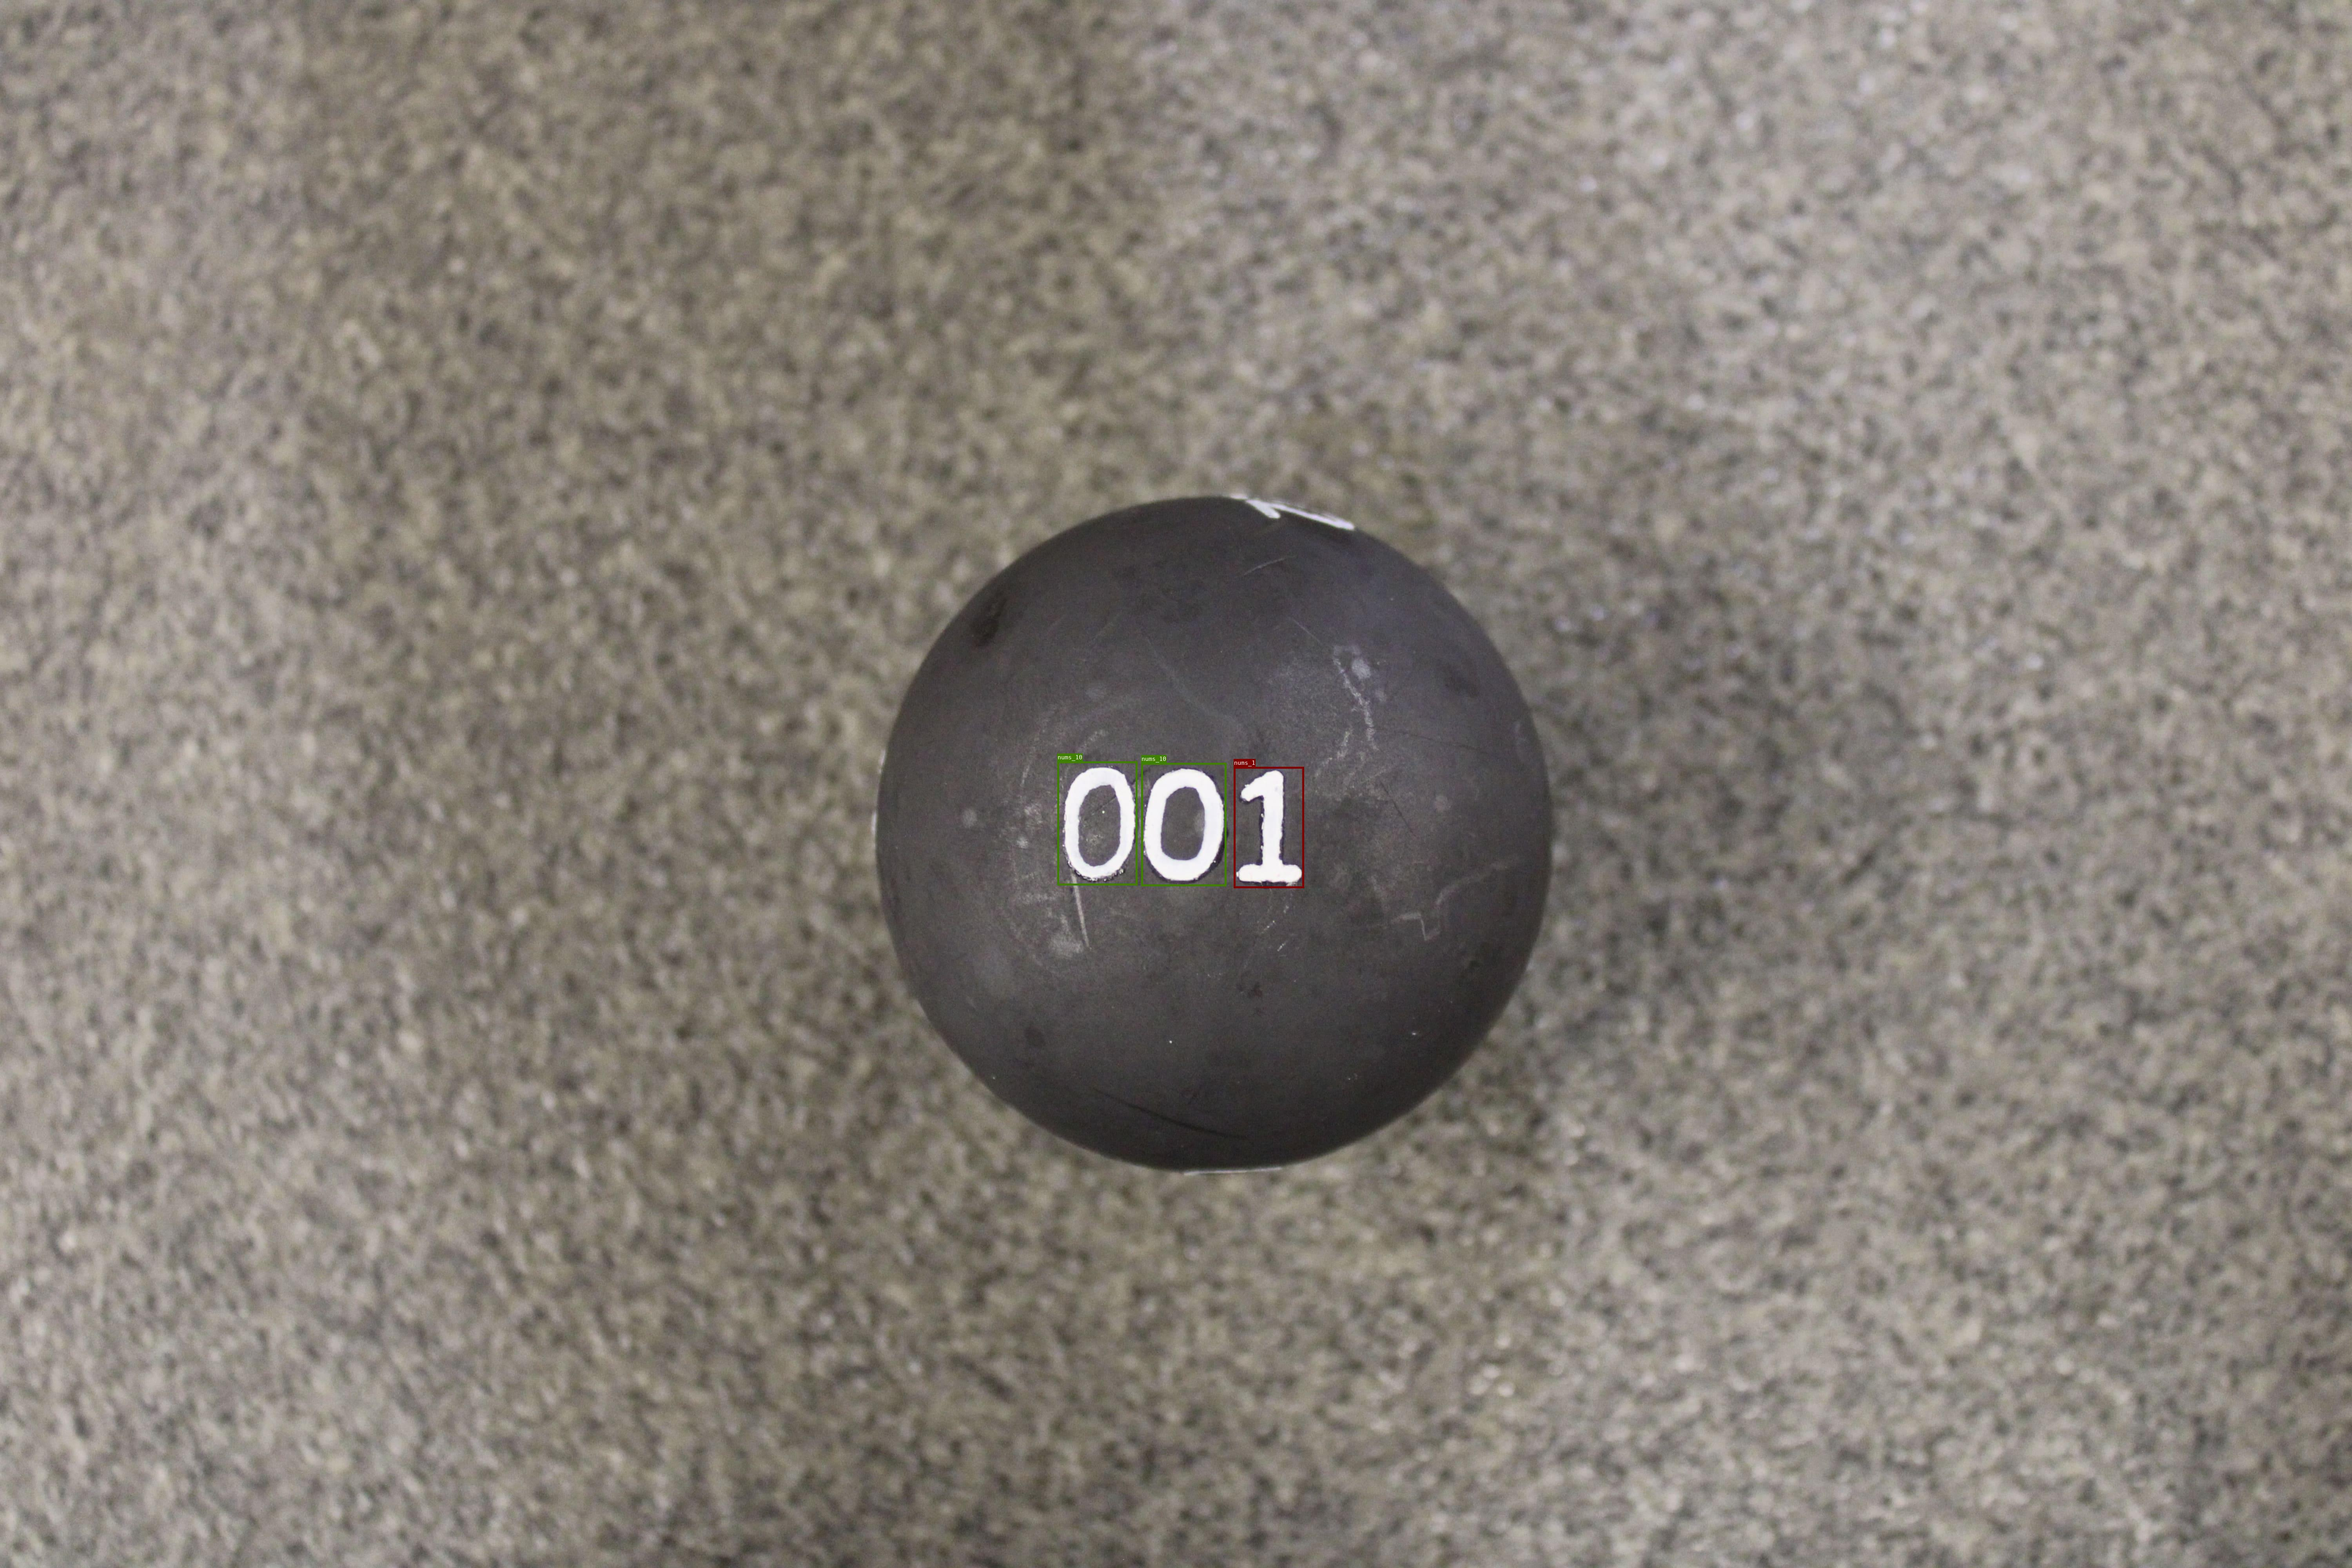nums_1: (1234, 766, 1304, 887)
nums_10: (1141, 763, 1227, 886), (1057, 761, 1137, 886)
